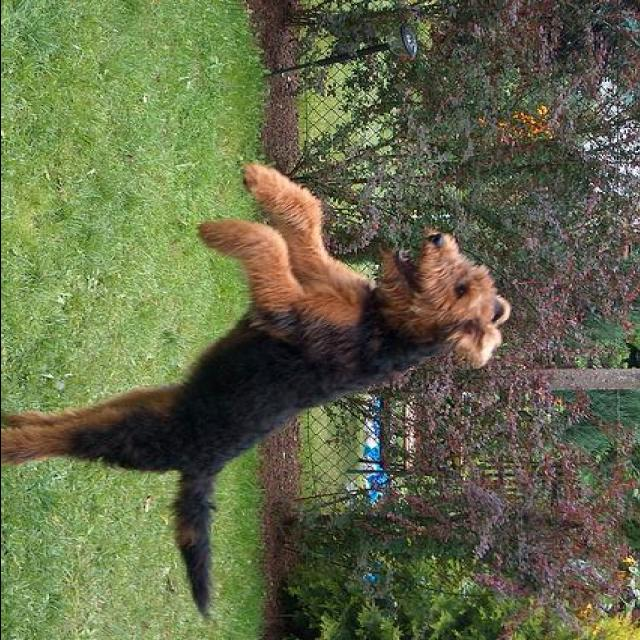airedale: (3, 161, 509, 621)
